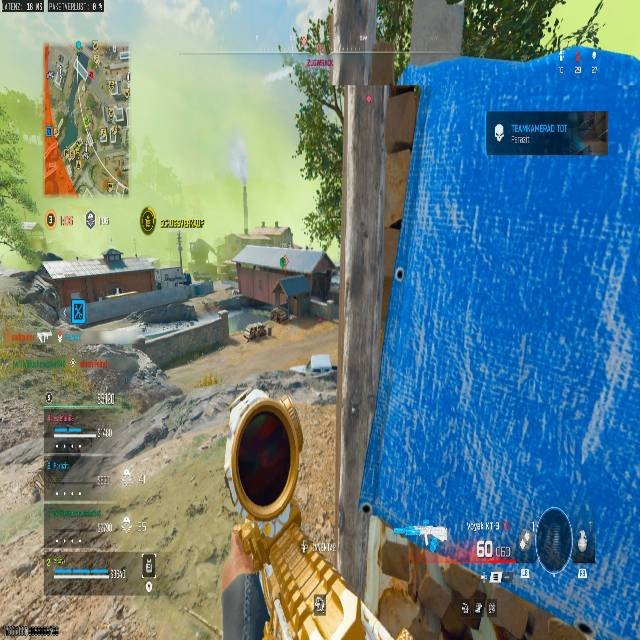head: (535, 507, 574, 572)
